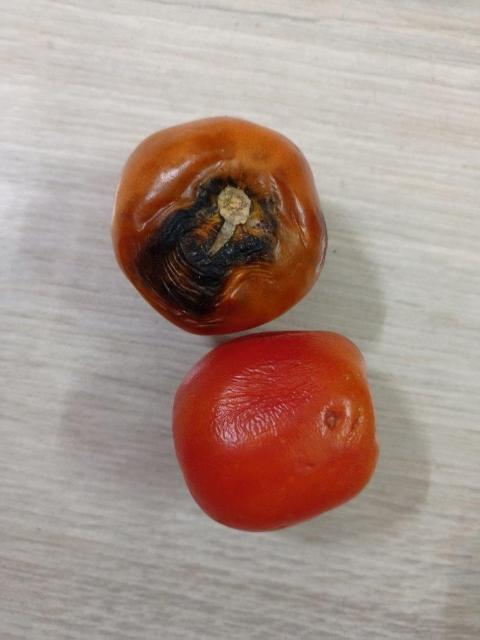defect: (106, 105, 344, 335), (148, 349, 405, 546)
